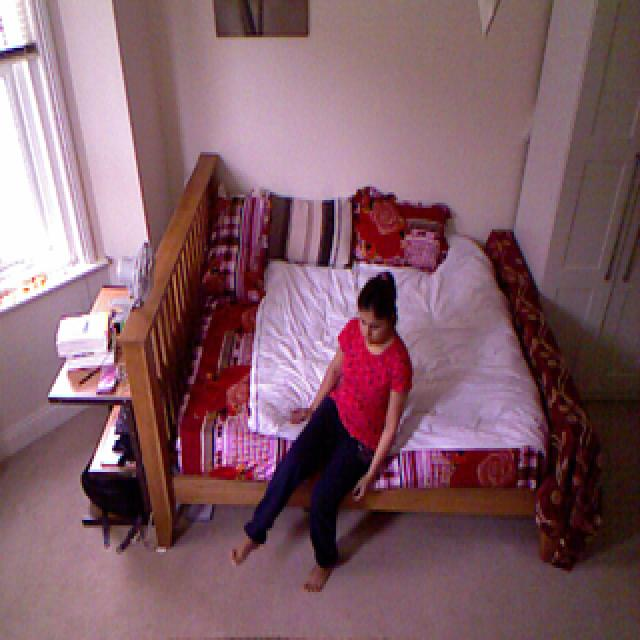sitting: (237, 274, 414, 576)
